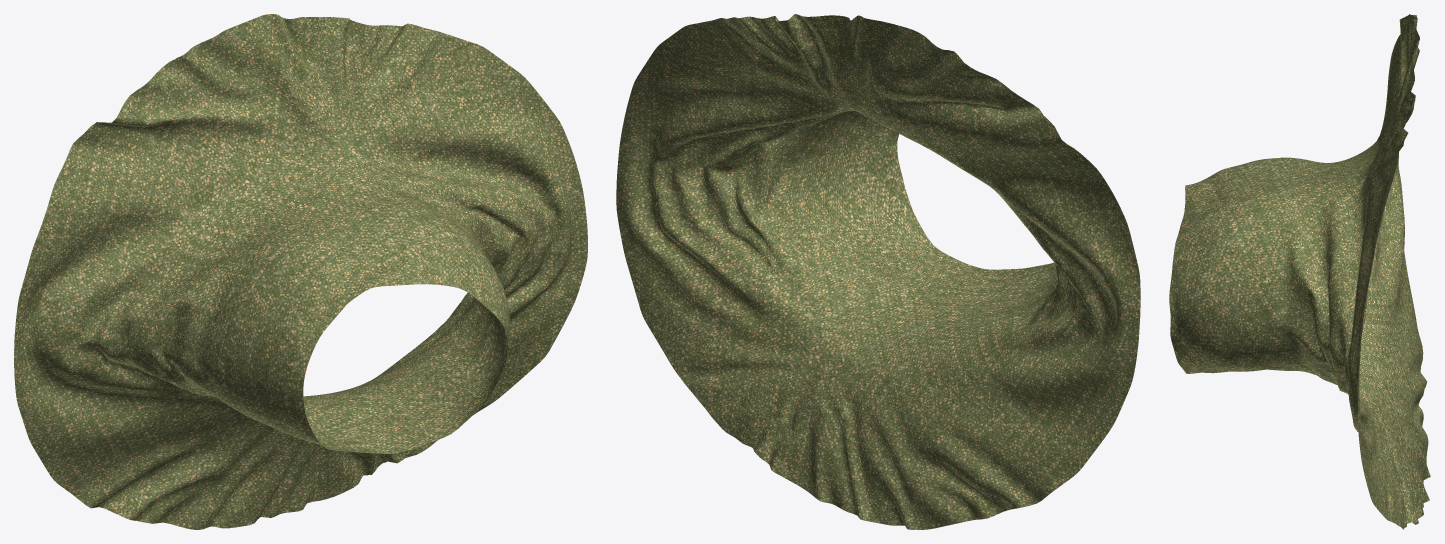
File: skirt.obj
The picture shows the model from 3 angles, left to right: view 1: azimuth 30°, elevation 25°; view 2: azimuth 150°, elevation 25°; view 3: azimuth 270°, elevation 25°; orthographic projection. The views are drawn at different scales.
Bounding box in the file's own units: 0.6386 × 0.5611 × 0.2868.
Materials: 1 (1 with a texture image).
